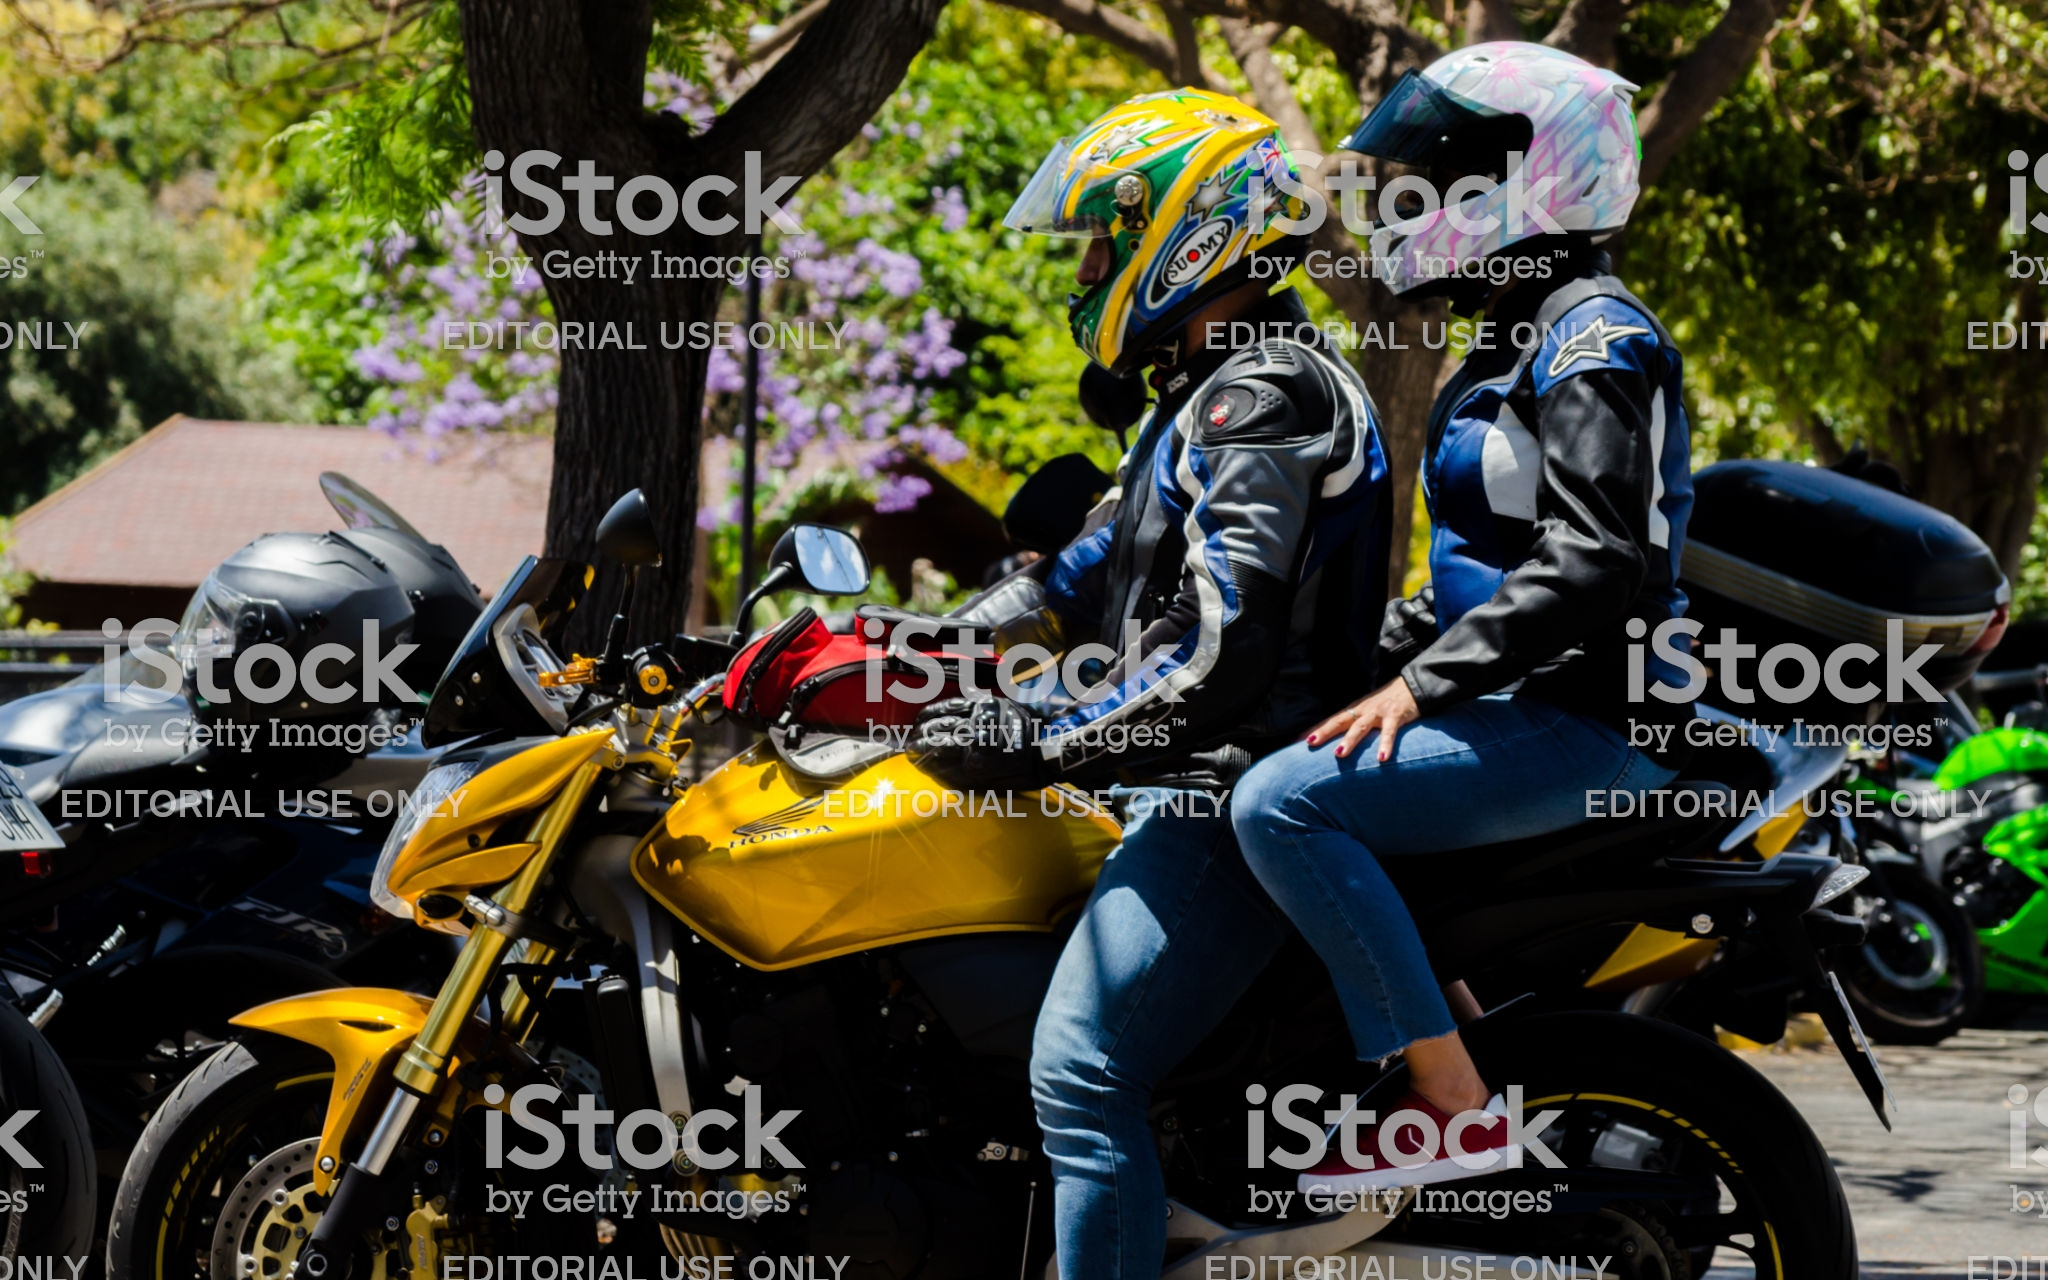helmet: (1345, 29, 1671, 298), (1001, 97, 1336, 352)
